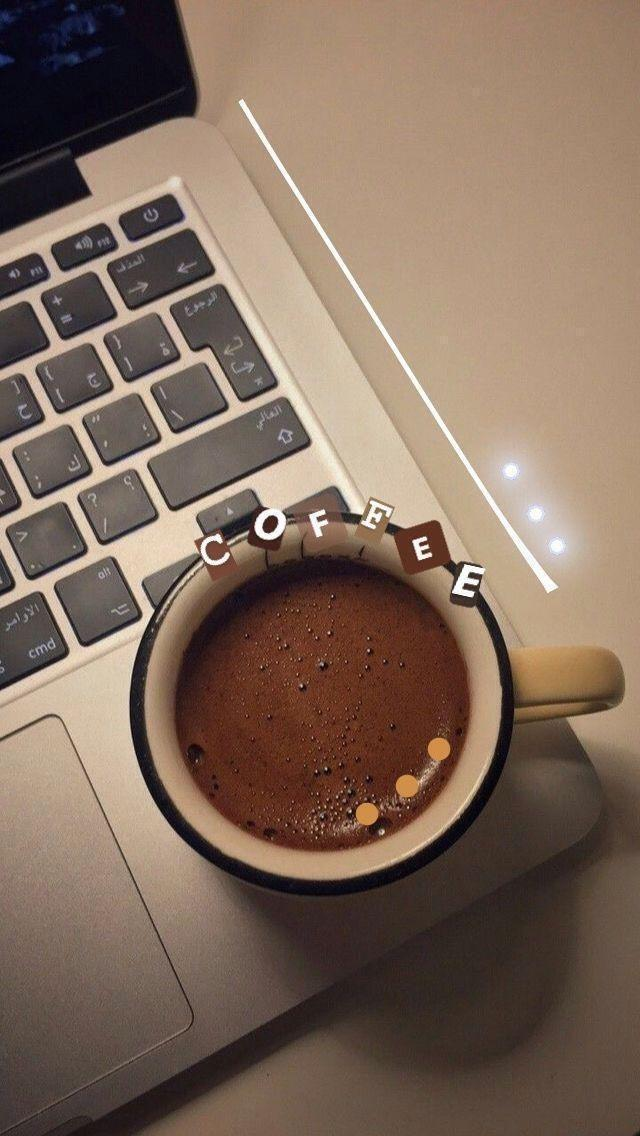cup-handle: (127, 508, 631, 904)
